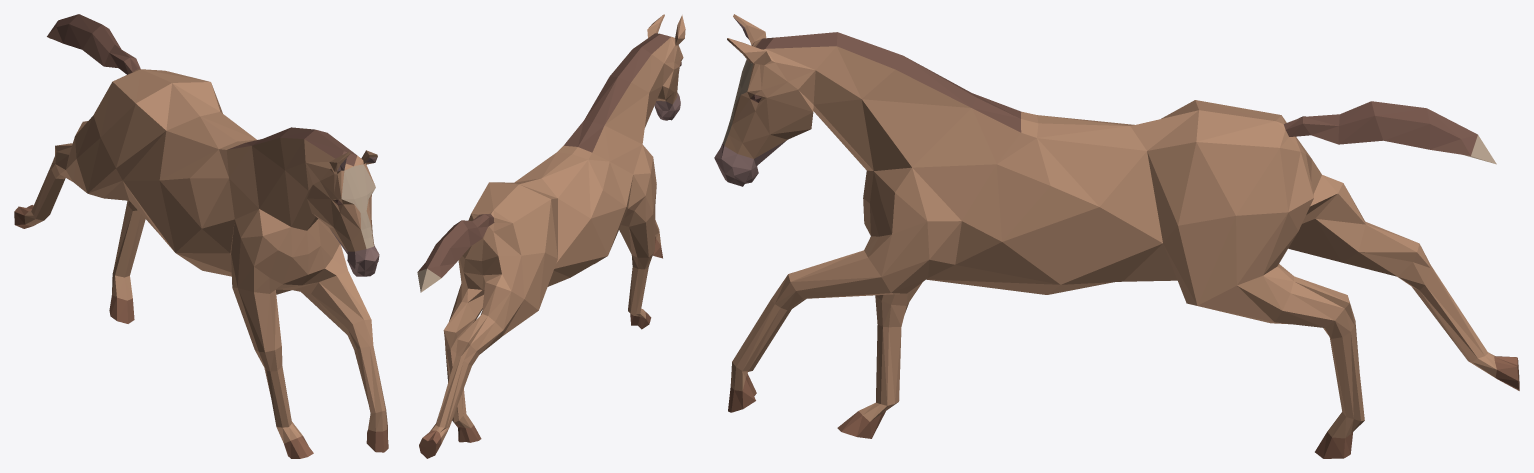
Rendered from modelo.glb.
The picture shows the model from 3 angles, left to right: view 1: azimuth 30°, elevation 25°; view 2: azimuth 150°, elevation 25°; view 3: azimuth 270°, elevation 25°; orthographic projection. The views are drawn at different scales.
Visible parts, largest first — view 1: mesh_0; view 2: mesh_0; view 3: mesh_0.
Part boxes in pixels (x1=…): mesh_0: x1=14, y1=14, x2=388, y2=458; mesh_0: x1=417, y1=14, x2=685, y2=458; mesh_0: x1=714, y1=14, x2=1519, y2=458.
Bounding box in the file's own units: 60.2 × 178 × 301.
